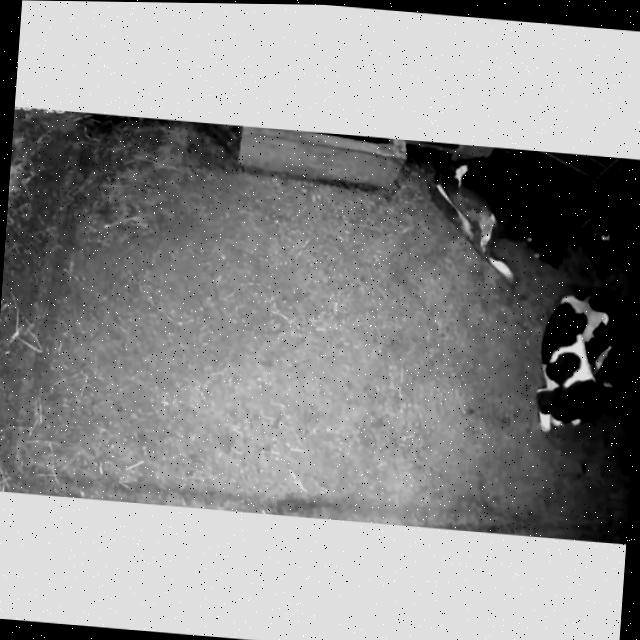lay: (415, 149, 640, 286), (523, 277, 640, 459)
